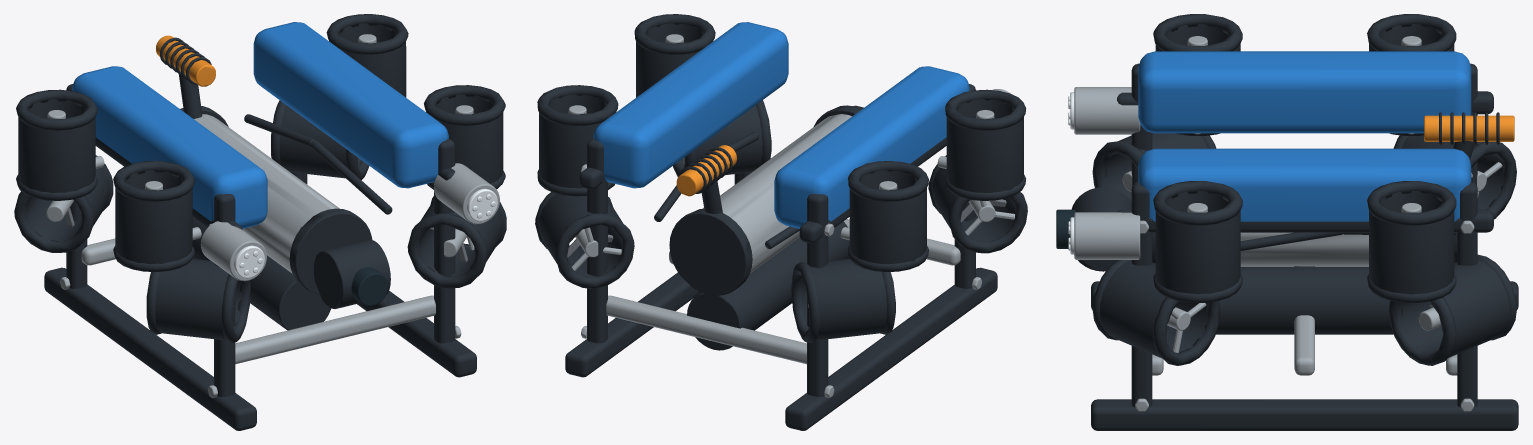
File: bluerov2_heavy_lod1.glb
The picture shows the model from 3 angles, left to right: view 1: azimuth 30°, elevation 25°; view 2: azimuth 150°, elevation 25°; view 3: azimuth 270°, elevation 25°; orthographic projection. The views are drawn at different scales.
Parts seen in each view (by area): view 1: Buoyancy shoulder, Buoyancy shoulder.001, Skid rail.001, T6 open duct, T8 open duct, Electronics pressure housing, T2 open duct, Deck cross member.002, Battery housing, T5 open duct, Pressure end cap.001, Camera gimbal (+30 smaller); view 2: Buoyancy shoulder, Buoyancy shoulder.001, Skid rail.001, Battery housing, T6 open duct, T8 open duct, Pressure end cap, Electronics pressure housing, T4 open duct, Deck cross member, T7 open duct, Skid rail (+23 smaller); view 3: Buoyancy shoulder.001, Buoyancy shoulder, Skid rail, Battery housing, T7 open duct, T5 open duct, T3 open duct, T1 open duct, Electronics pressure housing, LED housing 0, LED housing 1, Frame upright (+25 smaller).
Boxes of the visible parts, bbox=[...] form: Buoyancy shoulder: bbox=[253, 22, 448, 188]; Buoyancy shoulder.001: bbox=[72, 66, 267, 228]; Skid rail.001: bbox=[44, 267, 256, 430]; T6 open duct: bbox=[115, 170, 192, 264]; T8 open duct: bbox=[18, 99, 95, 192]; Electronics pressure housing: bbox=[194, 114, 339, 273]; T2 open duct: bbox=[155, 258, 242, 340]; Deck cross member.002: bbox=[235, 295, 435, 364]; Battery housing: bbox=[192, 217, 330, 330]; T5 open duct: bbox=[426, 94, 503, 183]; Pressure end cap.001: bbox=[289, 208, 372, 294]; Camera gimbal: bbox=[313, 239, 390, 308]; Buoyancy shoulder: bbox=[593, 22, 788, 188]; Buoyancy shoulder.001: bbox=[774, 66, 969, 228]; Skid rail.001: bbox=[785, 267, 997, 430]; Battery housing: bbox=[687, 221, 849, 350]; T6 open duct: bbox=[946, 99, 1023, 192]; T8 open duct: bbox=[849, 170, 926, 263]; Pressure end cap: bbox=[669, 209, 752, 295]; Electronics pressure housing: bbox=[702, 114, 851, 273]; T4 open duct: bbox=[801, 258, 886, 340]; Deck cross member: bbox=[606, 295, 806, 364]; T7 open duct: bbox=[539, 94, 605, 188]; Skid rail: bbox=[565, 272, 700, 377]; Buoyancy shoulder.001: bbox=[1138, 51, 1471, 133]; Buoyancy shoulder: bbox=[1138, 148, 1471, 221]; Skid rail: bbox=[1091, 399, 1518, 430]; Battery housing: bbox=[1216, 266, 1393, 334]; T7 open duct: bbox=[1369, 191, 1454, 294]; T5 open duct: bbox=[1155, 191, 1240, 294]; T3 open duct: bbox=[1401, 260, 1509, 357]; T1 open duct: bbox=[1100, 260, 1208, 358]; Electronics pressure housing: bbox=[1240, 232, 1368, 265]; LED housing 0: bbox=[1074, 212, 1140, 259]; LED housing 1: bbox=[1074, 87, 1140, 134]; Frame upright: bbox=[1457, 182, 1477, 407].
Bounding box in the file's own units: 0.5893 × 0.3468 × 0.562.
